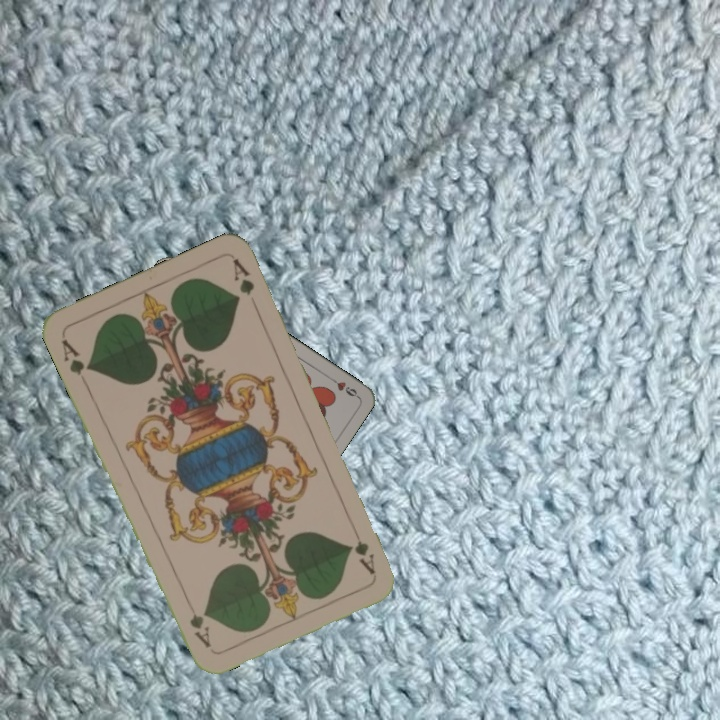GA: (349, 520, 378, 577), (57, 335, 94, 378)
H9: (325, 372, 360, 400)
